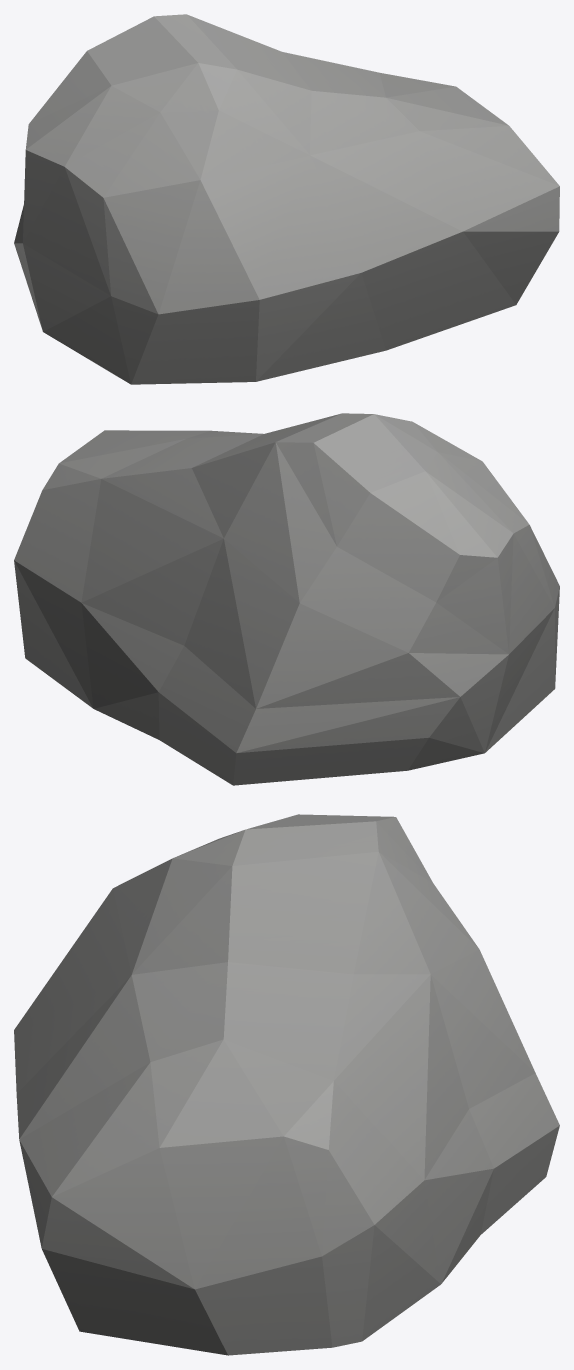
File: Cavern_RockLrg-01.fbx
The picture shows the model from 3 angles, top to bottom: view 1: azimuth 30°, elevation 25°; view 2: azimuth 150°, elevation 25°; view 3: azimuth 270°, elevation 25°; orthographic projection. The views are drawn at different scales.
Parts seen in each view (by area): view 1: Cavern_RockLrg-01; view 2: Cavern_RockLrg-01; view 3: Cavern_RockLrg-01.
Part boxes in pixels (left/top/right/bottom): Cavern_RockLrg-01: left=14, top=14, right=559, bottom=384; Cavern_RockLrg-01: left=14, top=413, right=559, bottom=785; Cavern_RockLrg-01: left=14, top=814, right=559, bottom=1355.
Bounding box in the file's own units: 539 × 311 × 428.
Materials: 1 (1 with a texture image).
